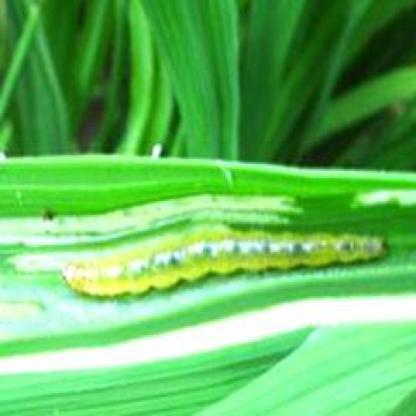leaf-folder: (48, 212, 386, 308)
